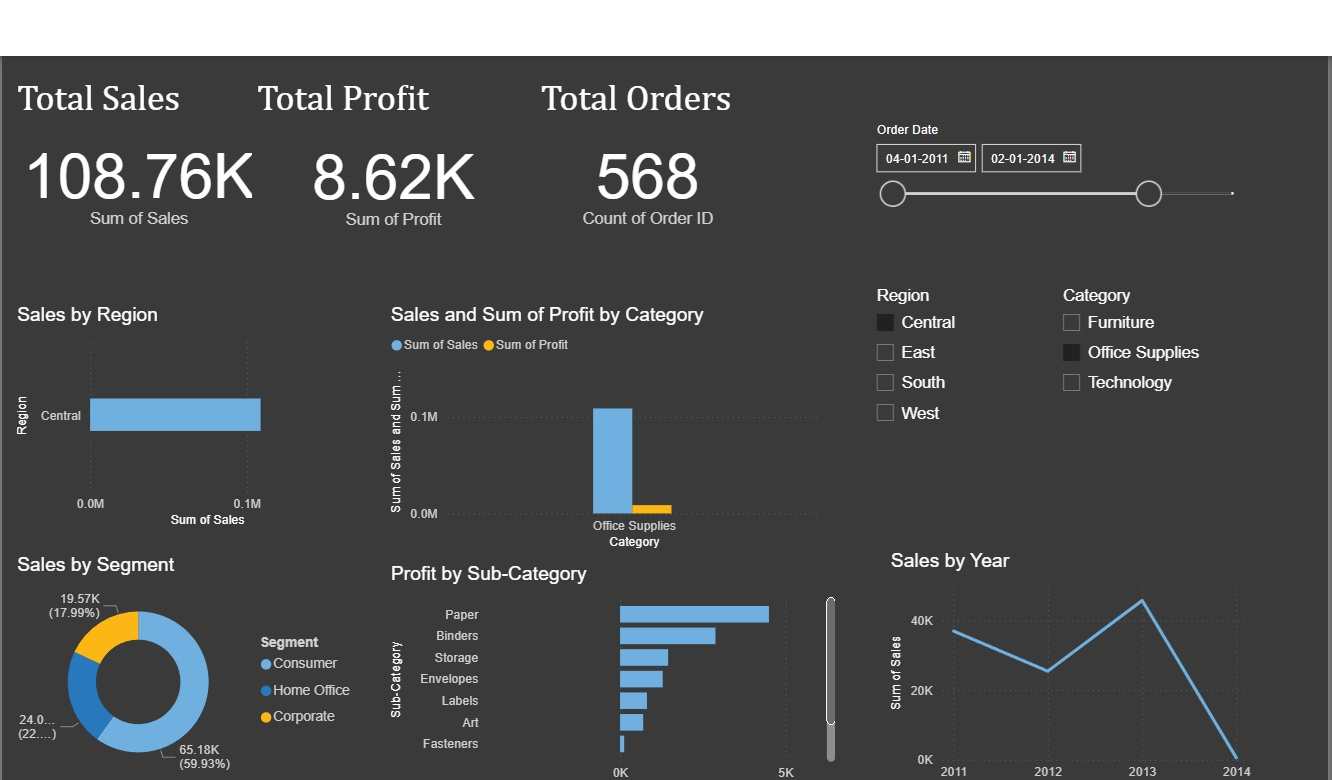

This screenshot's page, from the dashboard's own definition file:
{"tool":"powerbi","page":{"name":"Page 1","canvas":[1280,720],"ordinal":0},"visuals":[{"type":"card","title":"Total Sales","fields":{"Values":["Sum(Orders.Sales)"]},"box":[10,20,245.6,160],"z":0},{"type":"card","title":"Total Profit","fields":{"Values":["Sum(Orders.Profit)"]},"box":[241.7,20,273.3,161.7],"z":1000},{"type":"card","title":"Total Orders","fields":{"Values":["Count(Orders.Order ID)"]},"box":[515,20,216.7,160],"z":2000},{"type":"clusteredBarChart","title":" Sales by Region","fields":{"Category":["Orders.Region"],"Y":["Sum(Orders.Sales)"]},"box":[9.8,239.8,322.5,220.2],"z":3000},{"type":"clusteredColumnChart","title":"Sales and Sum of Profit by Category","fields":{"Category":["Orders.Category"],"Y":["Sum(Orders.Sales)","Sum(Orders.Profit)"]},"box":[370.2,239.8,424.9,241.2],"z":4000},{"type":"lineChart","title":"Sales by Year","fields":{"Category":["Orders.Order Date.Variation.Date Hierarchy.Year","Orders.Order Date.Variation.Date Hierarchy.Quarter","Orders.Order Date.Variation.Date Hierarchy.Month","Orders.Order Date.Variation.Date Hierarchy.Day"],"Y":["Sum(Orders.Sales)"]},"box":[852.6,478.2,357.6,241.2],"z":5000},{"type":"donutChart","title":"Sales by Segment","fields":{"Category":["Orders.Segment"],"Y":["Sum(Orders.Sales)"]},"box":[10,481.5,340,227],"z":6000},{"type":"barChart","title":"Profit by Sub-Category","fields":{"Category":["Orders.Sub-Category"],"Y":["Sum(Orders.Profit)"]},"box":[370.2,489.4,438.9,230],"z":7000},{"type":"slicer","fields":{"Values":["Orders.Region"]},"box":[831.6,218.8,165.5,159.9],"z":8000},{"type":"slicer","fields":{"Values":["Orders.Category"]},"box":[1011,218.8,172.5,159.9],"z":9000},{"type":"slicer","fields":{"Values":["Orders.Order Date"]},"box":[831.6,60.3,378.6,137.4],"z":10000}]}

Visuals, with their boxes on the page's 1280x720 design canvas (x1, y1, x2, y2). These are canvas units, not pixel positions in the 1332x780 screenshot, which may show the page scaled, cropped or inside an application window:
"Total Sales" card: 10 20 256 180
"Total Profit" card: 242 20 515 182
"Total Orders" card: 515 20 732 180
" Sales by Region" clusteredBarChart: 10 240 332 460
"Sales and Sum of Profit by Category" clusteredColumnChart: 370 240 795 481
"Sales by Year" lineChart: 853 478 1210 719
"Sales by Segment" donutChart: 10 482 350 708
"Profit by Sub-Category" barChart: 370 489 809 719
slicer - Orders.Region: 832 219 997 379
slicer - Orders.Category: 1011 219 1184 379
slicer - Orders.Order Date: 832 60 1210 198
